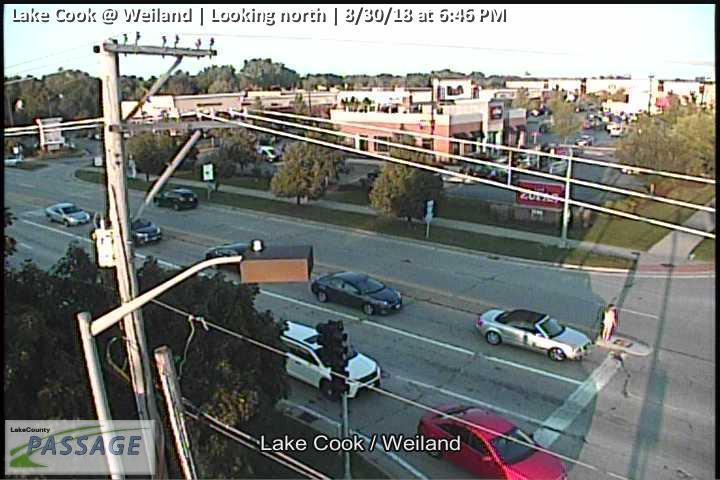SUV: (266, 319, 382, 399), (153, 188, 198, 209)
Sedan: (418, 401, 568, 480), (477, 308, 592, 364), (311, 269, 402, 316), (206, 241, 267, 275), (120, 215, 161, 246), (45, 202, 89, 228), (4, 154, 23, 166)
